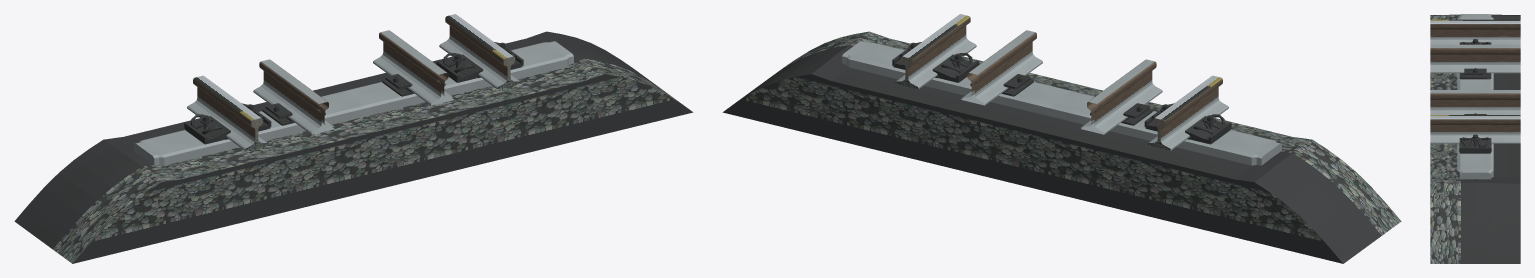
File: center_guard_high.obj
3 views of the same model, side by side, from view 1: azimuth 30°, elevation 25°; view 2: azimuth 150°, elevation 25°; view 3: azimuth 270°, elevation 25° (orthographic). The views are drawn at different scales.
Parts seen in each view (by area): view 1: ballast, sleeper, center_guard_left, center_guard_right, rail_left, rail_right, fastener_left, fastener_right, center_fastener_left, center_fastener_right; view 2: ballast, sleeper, center_guard_left, center_guard_right, rail_left, rail_right, fastener_left, fastener_right, center_fastener_left, center_fastener_right; view 3: ballast, center_guard_left, rail_right, rail_left, center_guard_right, sleeper, fastener_right, center_fastener_left, fastener_left.
Boxes of the visible parts, box(x1,y1,x2,y2) form: ballast: box(14, 31, 693, 263); sleeper: box(134, 41, 573, 165); center_guard_left: box(253, 59, 334, 134); center_guard_right: box(373, 30, 454, 105); rail_left: box(187, 75, 266, 150); rail_right: box(439, 14, 519, 88); fastener_left: box(184, 103, 271, 144); fastener_right: box(436, 42, 523, 82); center_fastener_left: box(262, 103, 325, 125); center_fastener_right: box(382, 74, 445, 96); ballast: box(722, 31, 1401, 263); sleeper: box(842, 41, 1281, 165); center_guard_left: box(1081, 59, 1162, 134); center_guard_right: box(961, 30, 1042, 105); rail_left: box(1149, 75, 1228, 150); rail_right: box(896, 14, 976, 88); fastener_left: box(1144, 103, 1231, 144); fastener_right: box(892, 42, 979, 82); center_fastener_left: box(1090, 103, 1153, 125); center_fastener_right: box(970, 74, 1033, 96); ballast: box(1430, 14, 1520, 263); center_guard_left: box(1430, 44, 1520, 73); rail_right: box(1430, 115, 1520, 143); rail_left: box(1430, 19, 1520, 44); center_guard_right: box(1430, 90, 1520, 114); sleeper: box(1457, 14, 1493, 179); fastener_right: box(1459, 134, 1491, 153); center_fastener_left: box(1459, 68, 1491, 79); fastener_left: box(1459, 39, 1491, 44).
Size of the model in its own units: 3.7 by 0.5683 by 0.6.
